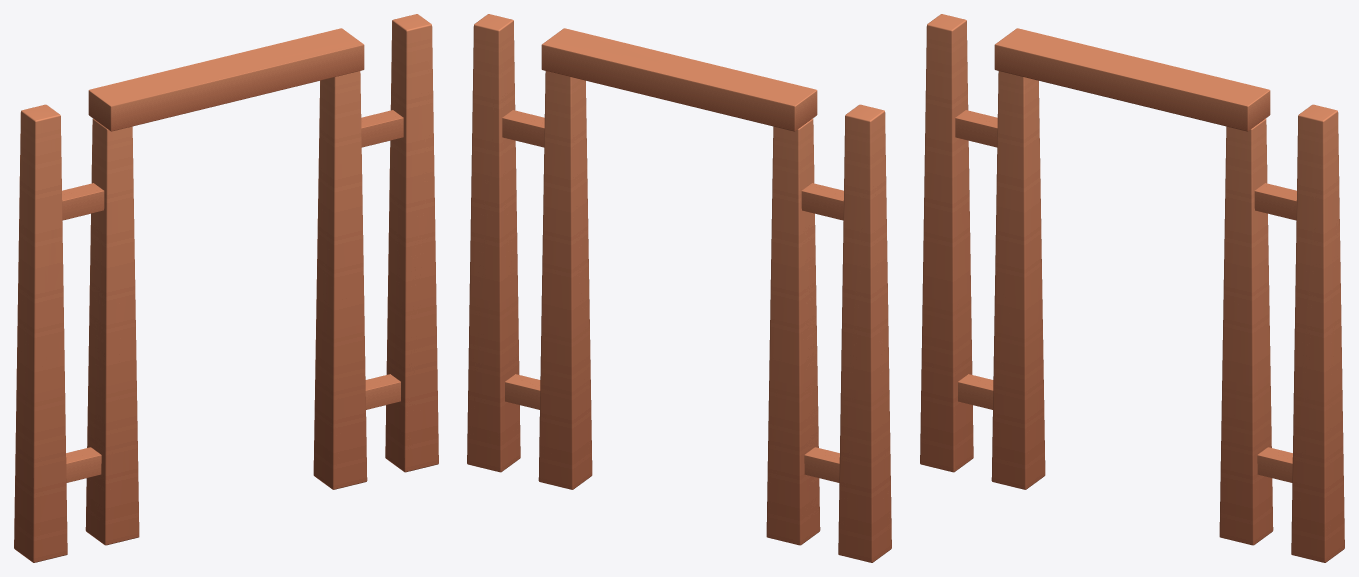
File: fence-doorway.glb
3 renders of one model, left to right at view 1: azimuth 30°, elevation 25°; view 2: azimuth 150°, elevation 25°; view 3: azimuth 330°, elevation 25°, orthographic.
Parts seen in each view (by area): view 1: fence-doorway, Group; view 2: fence-doorway, Group; view 3: fence-doorway, Group.
Part boxes in pixels (x1,y1,x2,y2): fence-doorway: (14, 14, 438, 562); Group: (88, 28, 364, 131); fence-doorway: (467, 14, 891, 562); Group: (541, 28, 817, 131); fence-doorway: (920, 14, 1344, 562); Group: (994, 28, 1270, 131).
Size of the model in its own units: 0.5 by 0.5175 by 0.0481.
2 materials, 2 textured.
